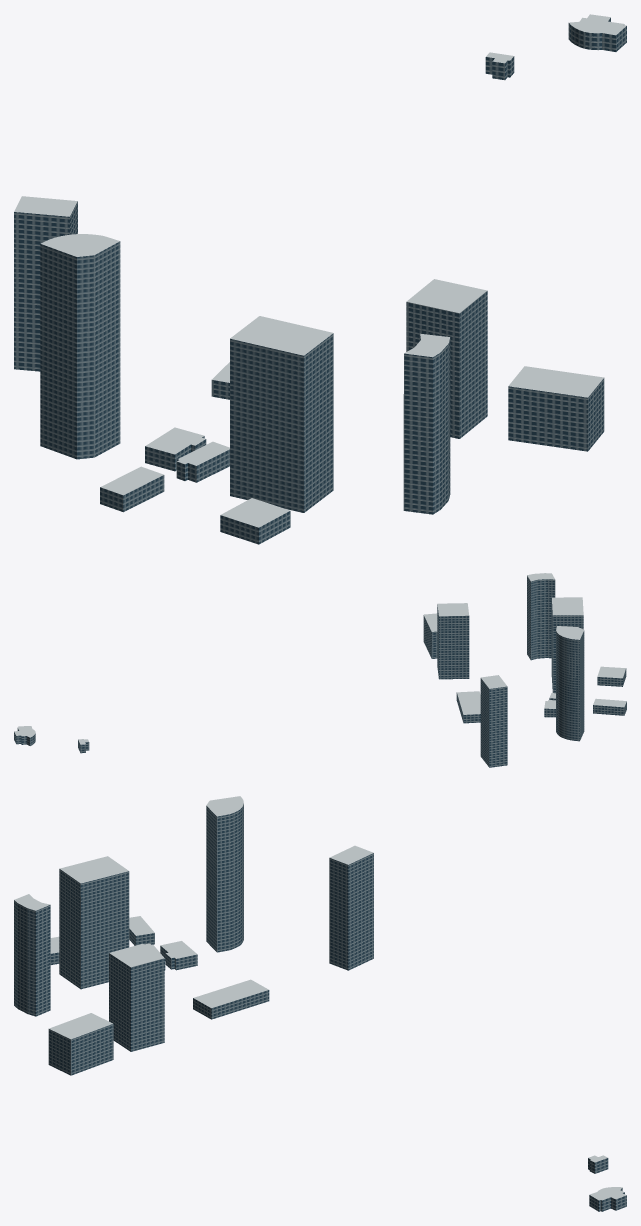
3 renders of one model, top to bottom at view 1: azimuth 30°, elevation 25°; view 2: azimuth 150°, elevation 25°; view 3: azimuth 270°, elevation 25°, orthographic. The views are drawn at different scales.
Size of the model in its own units: 646 by 144 by 588.
Materials: 2 (1 with a texture image).
